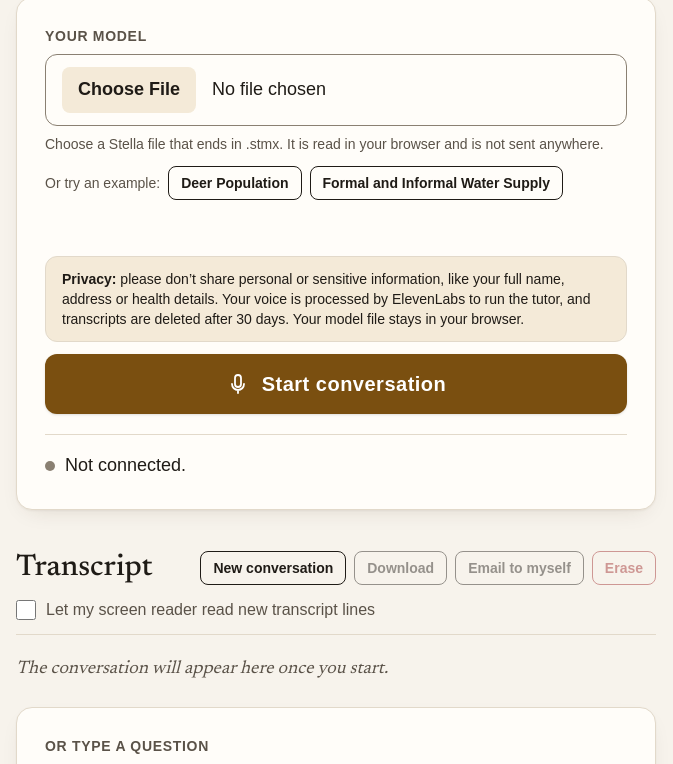
Scenario: starting a conversation › explains a blocked microphone instead of starting
The image size is (673, 764).
(page scrolled)
Click the button "Start conversation" at (336,384), box [45,354,627,414]
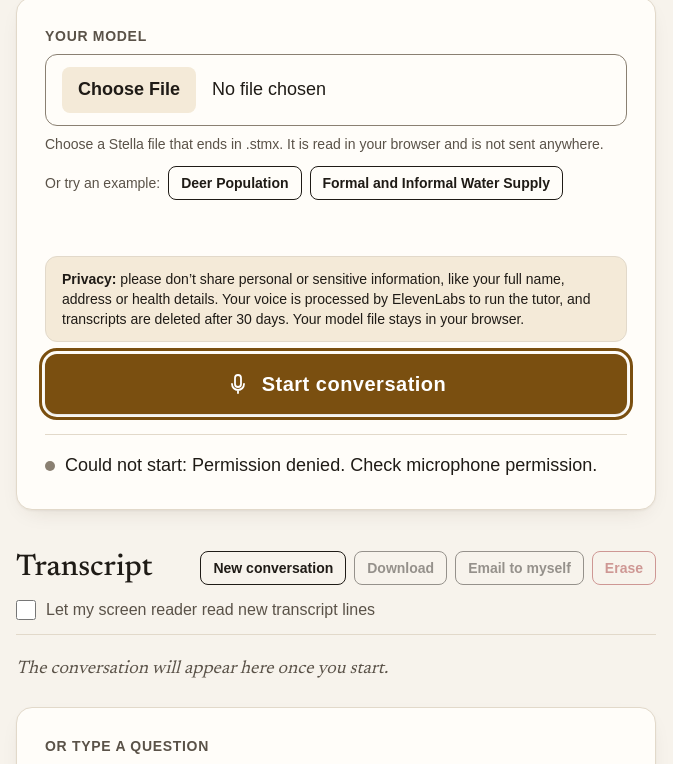
Check: the message reads "Could not start: Permission denied. Check microphone permission.", box [65,455,597,475]
